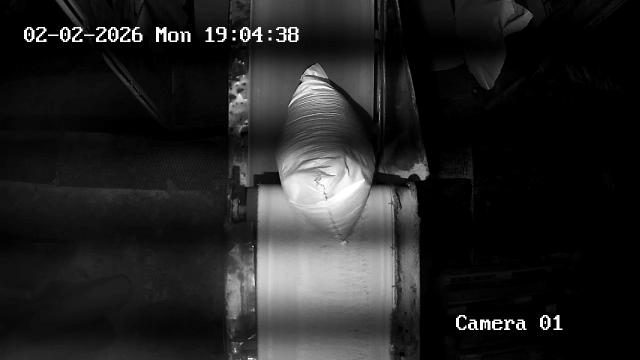bag: (278, 63, 377, 243)
